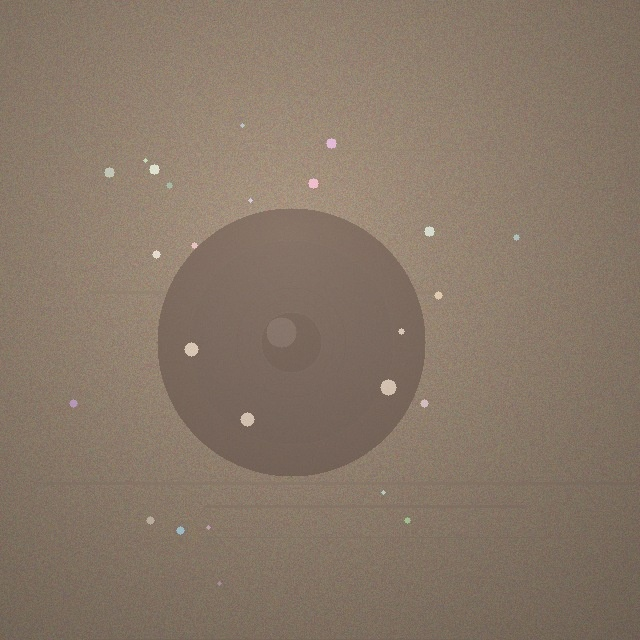overburn: (157, 208, 425, 476)
